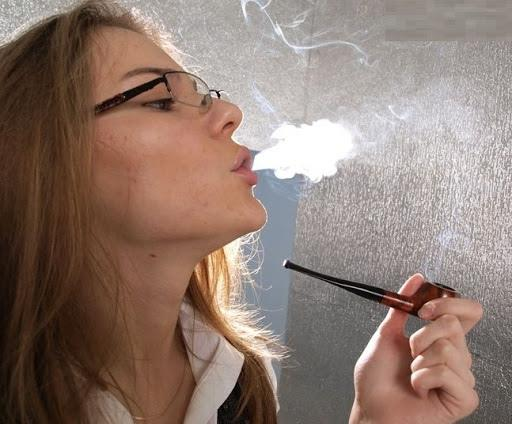trubka: (282, 260, 461, 316)
